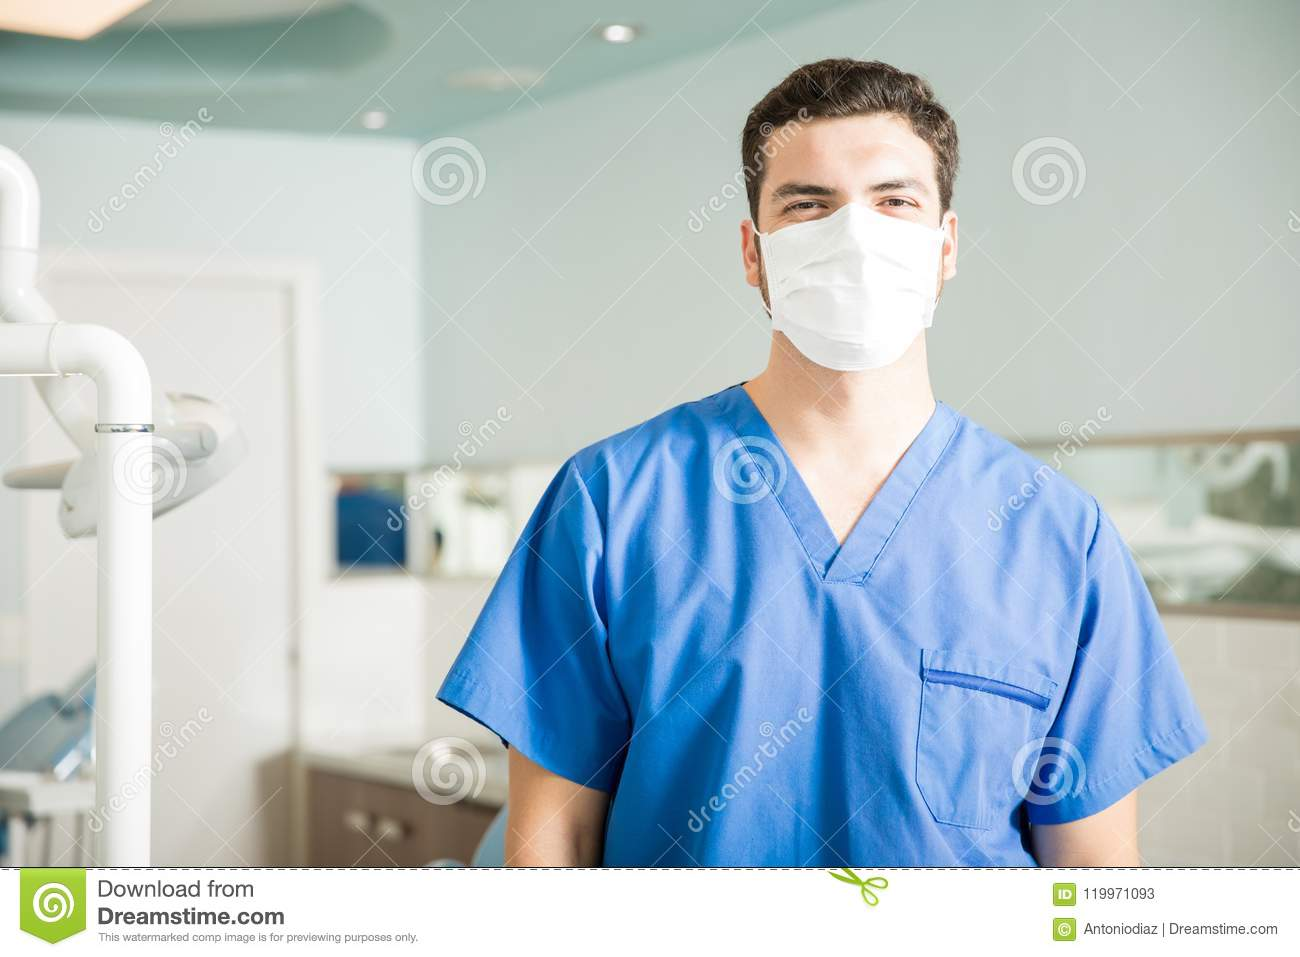mask: (770, 208, 957, 367)
